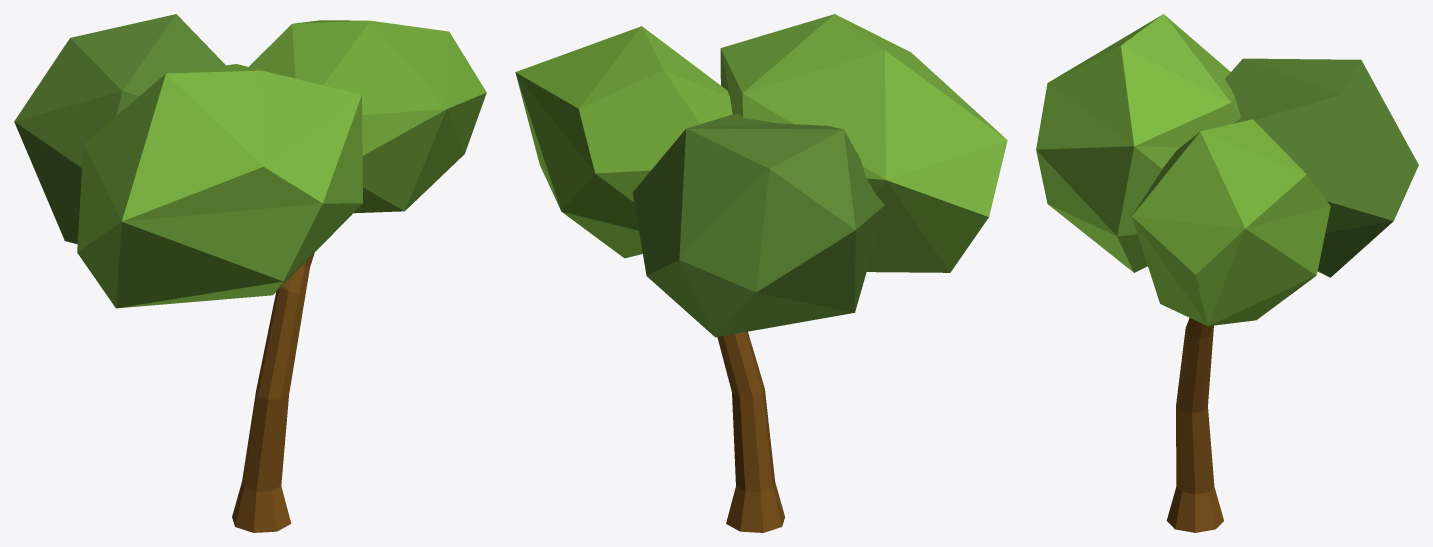
Rendered from [3D] Tree_02.fbx.
3 renders of one model, left to right at view 1: azimuth 30°, elevation 25°; view 2: azimuth 150°, elevation 25°; view 3: azimuth 270°, elevation 25°, orthographic. The views are drawn at different scales.
Visible parts, largest first — view 1: Tree2; view 2: Tree2; view 3: Tree2.
Boxes of the visible parts, box(x1,y1,x2,y2) form: Tree2: box(14, 14, 486, 532); Tree2: box(515, 14, 1007, 532); Tree2: box(1036, 14, 1418, 532).
Size of the model in its own units: 277 by 298 by 226.
